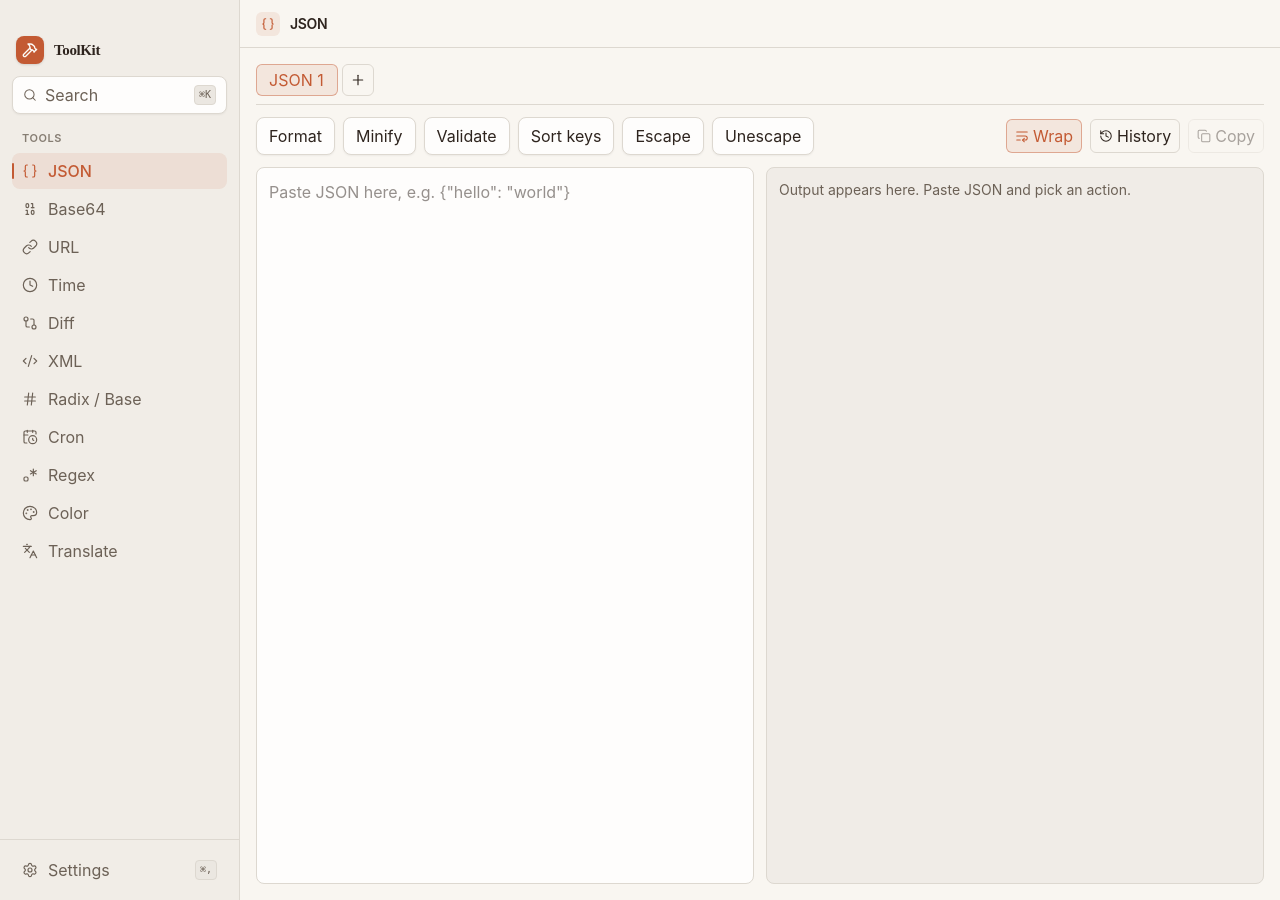
it: App › switches visible settings labels to Simplified Chinese
Expected: the text "ToolKit" is shown, [54,39,100,61]
Click the button "Settings ⌘," at (120, 870), box [12,852,227,888]
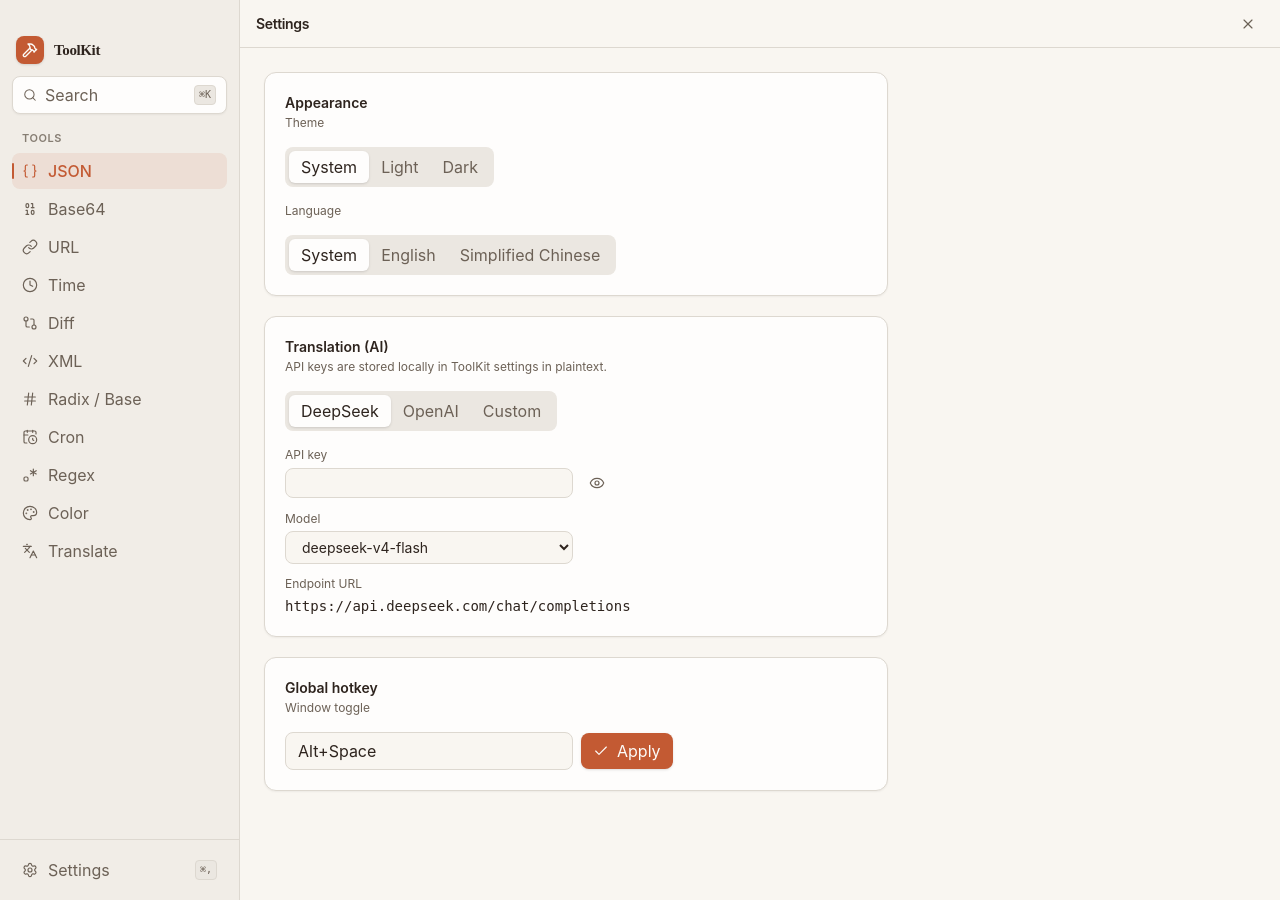
Click the button "Simplified Chinese" at (530, 255), box [448,239,612,271]
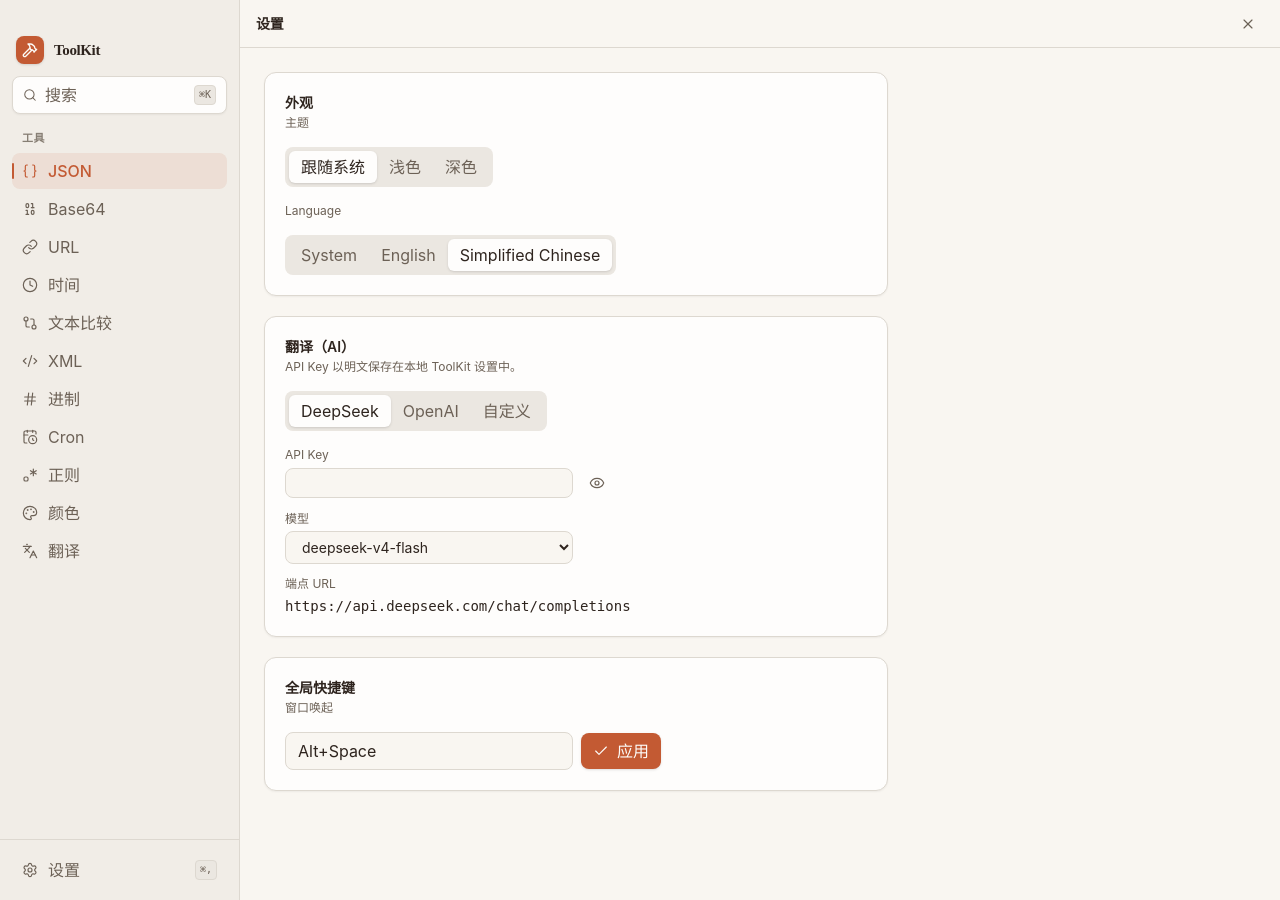
Now the element named "Language" is shown, box [285,235,616,275]
Now the button "Simplified Chinese" is shown, box [448,239,612,271]
Now the heading "设置" is shown, box [256,14,283,34]
